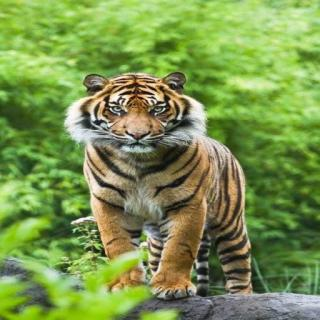Tiger: (40, 51, 286, 320)
